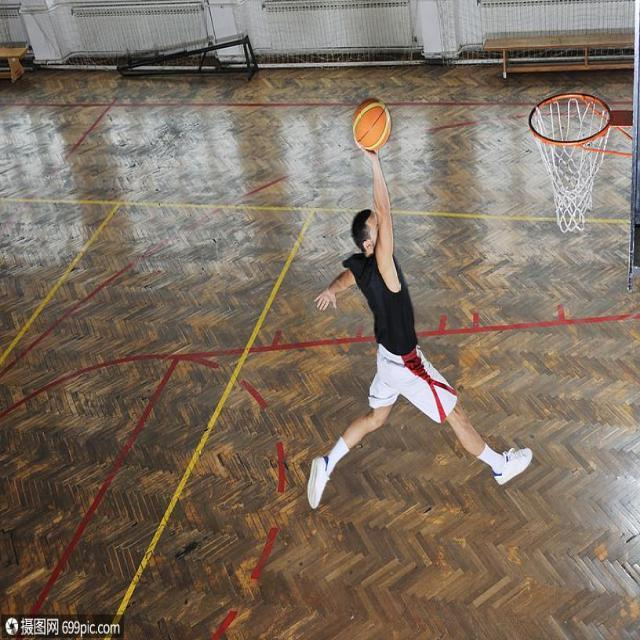rim: (354, 99, 392, 152)
